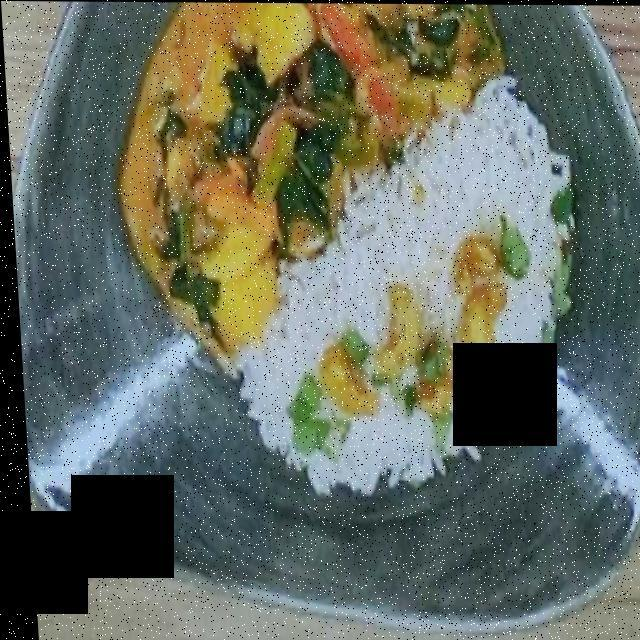cashew-nut: (303, 227, 504, 422)
curry-vegetarian: (121, 7, 498, 349)
rice: (229, 94, 562, 479)
tofu: (184, 2, 315, 329)
